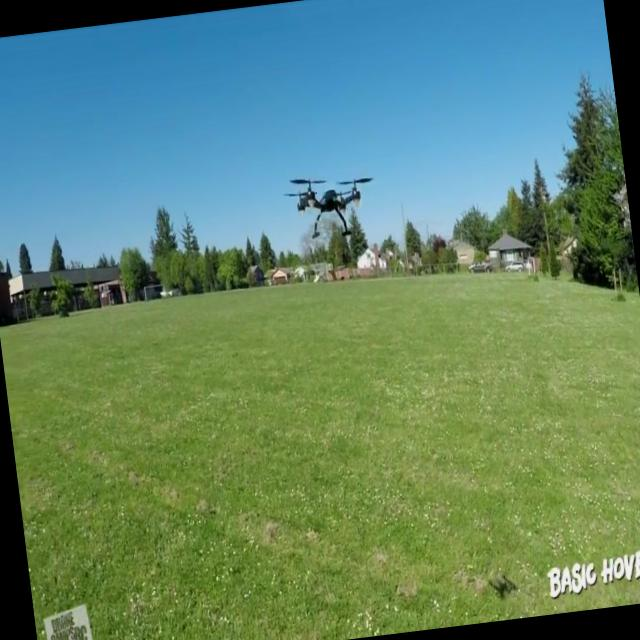drone: (283, 166, 379, 243)
